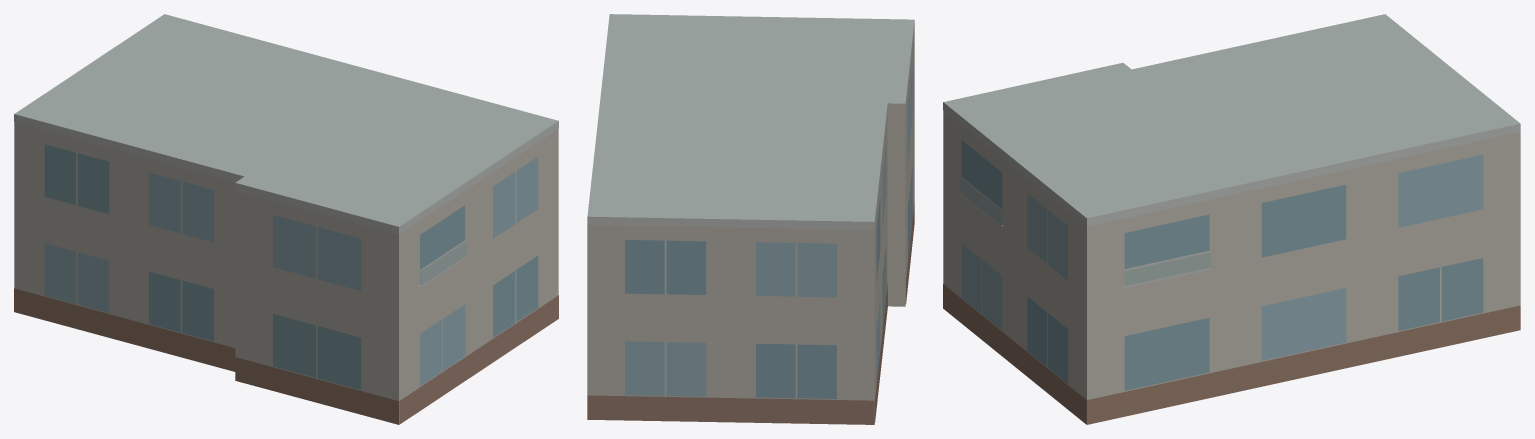
Rendered from survey-upis-32810708.glb.
3 renders of one model, left to right at view 1: azimuth 30°, elevation 25°; view 2: azimuth 150°, elevation 25°; view 3: azimuth 270°, elevation 25°, orthographic. The views are drawn at different scales.
Parts seen in each view (by area): view 1: survey-upis-32810708.tmp; view 2: survey-upis-32810708.tmp; view 3: survey-upis-32810708.tmp.
Boxes of the visible parts, <box> form: survey-upis-32810708.tmp: <box>14,14,558,424</box>; survey-upis-32810708.tmp: <box>587,14,914,424</box>; survey-upis-32810708.tmp: <box>943,14,1520,424</box>.
Size of the model in its own units: 12.96 by 6.1 by 15.47.
